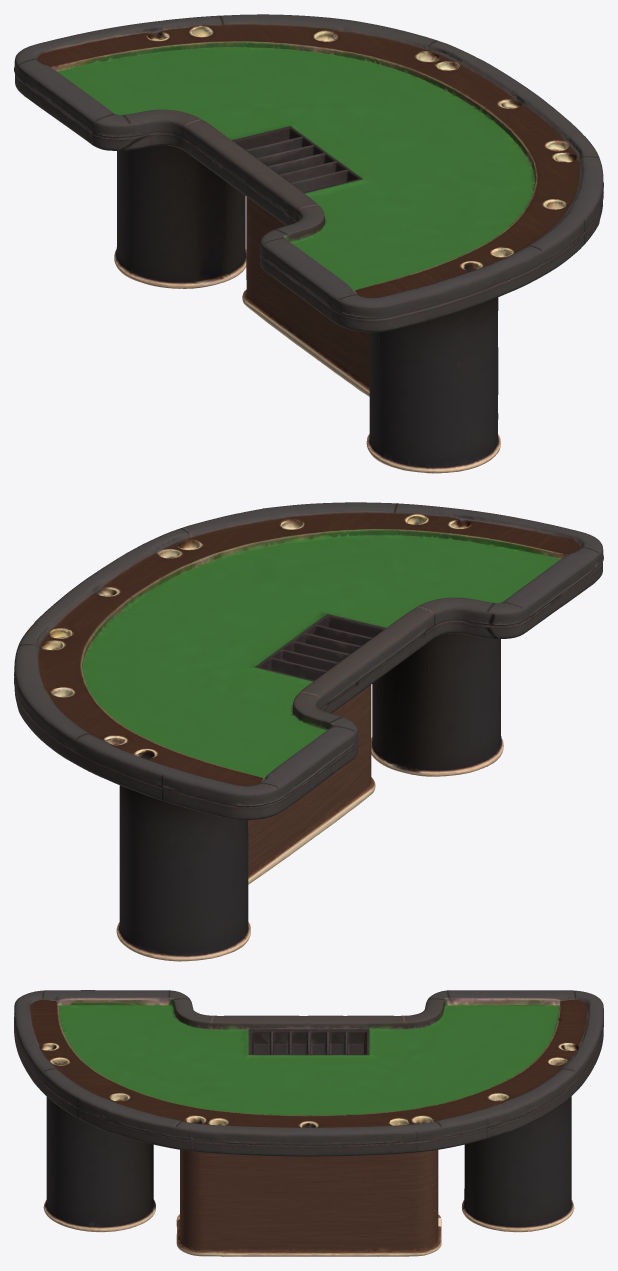
File: mesaBlackJack.fbx
3 views of the same model, one above another, from view 1: azimuth 30°, elevation 25°; view 2: azimuth 150°, elevation 25°; view 3: azimuth 270°, elevation 25° (orthographic). The views are drawn at different scales.
Parts seen in each view (by area): view 1: tripo_node_40573924; view 2: tripo_node_40573924; view 3: tripo_node_40573924.
Part boxes in pixels (bbox=[...]): tripo_node_40573924: bbox=[14, 14, 603, 473]; tripo_node_40573924: bbox=[14, 502, 603, 961]; tripo_node_40573924: bbox=[14, 990, 603, 1256].
Bounding box in the file's own units: 0.5862 × 0.3196 × 0.9999.
1 material, 1 textured.
